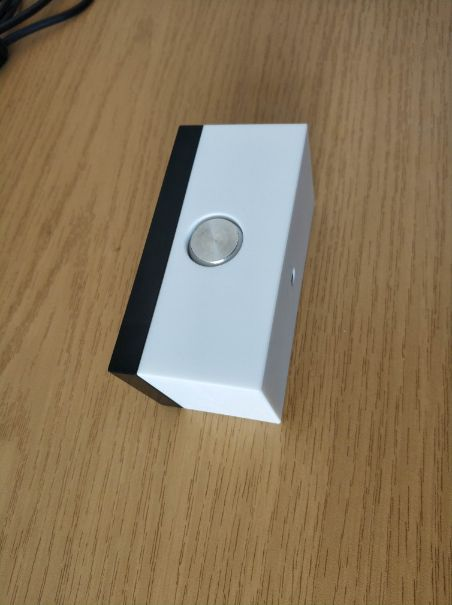black+white+silver: (102, 120, 322, 428)
